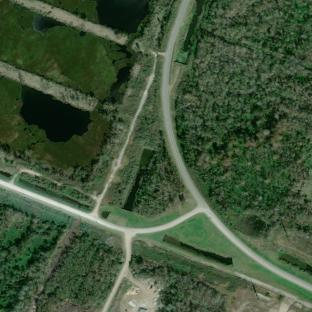Floresta: (175, 0, 312, 234), (37, 226, 123, 312), (0, 201, 66, 312), (134, 139, 183, 216), (157, 274, 225, 312)
